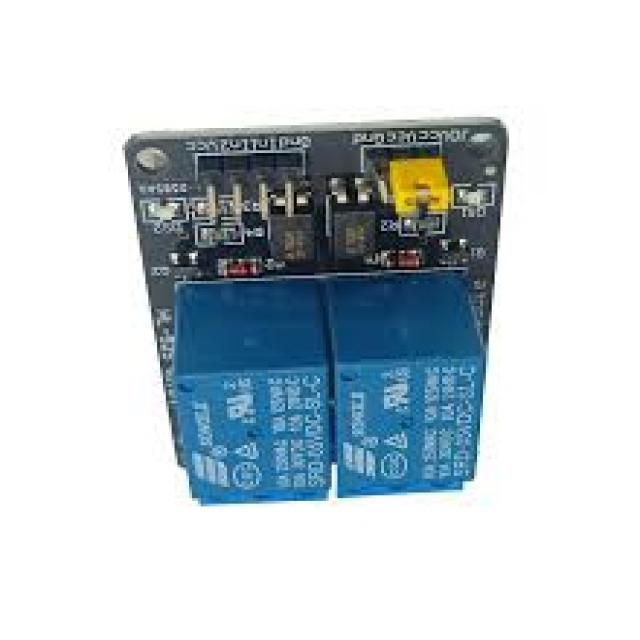Relay: (128, 117, 503, 509)
